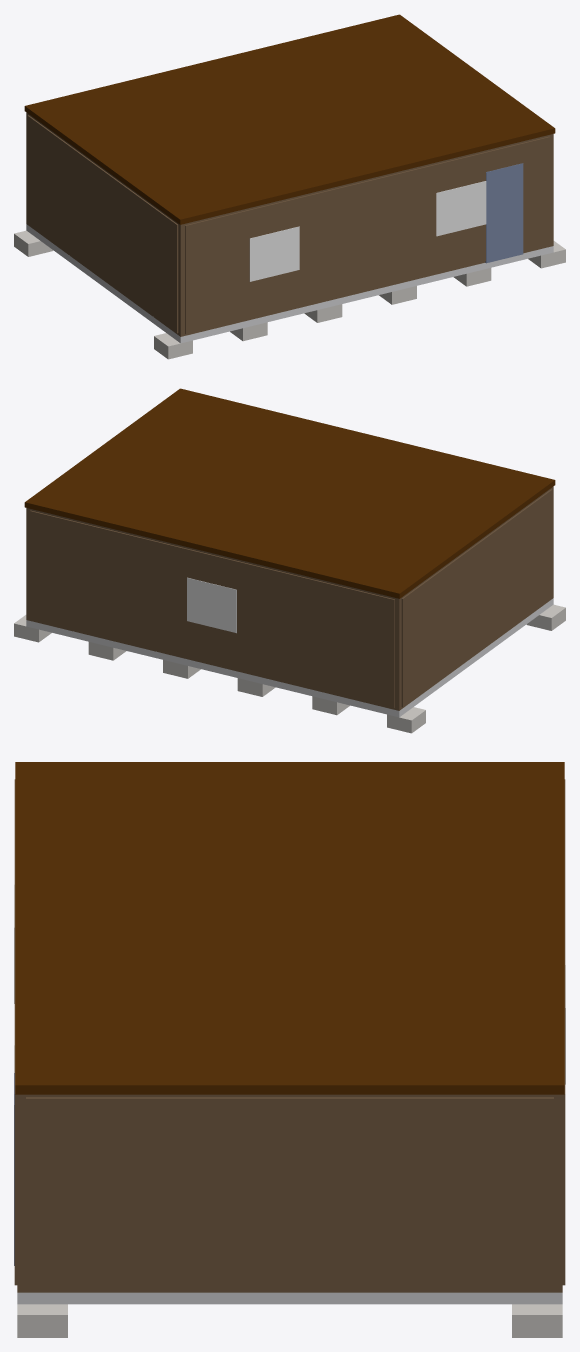
File: Studio-30-Base-WengeWood-LOD0.glb
The picture shows the model from 3 angles, top to bottom: view 1: azimuth 30°, elevation 25°; view 2: azimuth 150°, elevation 25°; view 3: azimuth 270°, elevation 25°; orthographic projection. The views are drawn at different scales.
Visible parts, largest first — view 1: RoofMain, ExteriorPanelsStandard, WindowsStandard, BaseFrame, FoundationBlocks, ExteriorShell, EntryDoor; view 2: RoofMain, ExteriorPanelsStandard, BaseFrame, FoundationBlocks, ExteriorShell, WindowsStandard; view 3: RoofMain, ExteriorPanelsStandard, ExteriorShell, BaseFrame, FoundationBlocks.
Boxes of the visible parts, x1,y1,x2,y2 form: RoofMain: (24,14,555,224); ExteriorPanelsStandard: (27,115,550,334); WindowsStandard: (249,181,486,281); BaseFrame: (26,224,553,343); FoundationBlocks: (14,230,565,359); ExteriorShell: (26,112,553,336); EntryDoor: (485,163,523,263); RoofMain: (24,388,555,598); ExteriorPanelsStandard: (30,489,552,708); BaseFrame: (26,598,553,717); FoundationBlocks: (14,604,565,733); ExteriorShell: (26,486,553,710); WindowsStandard: (187,577,236,633); RoofMain: (15,762,564,1094); ExteriorPanelsStandard: (14,779,565,1289); ExteriorShell: (17,1094,562,1292); BaseFrame: (17,1292,562,1304); FoundationBlocks: (17,1304,562,1337).
Size of the model in its own units: 9.6 by 3.17 by 6.53.
